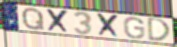3: (73, 11, 95, 36)
D: (147, 17, 172, 42)
G: (123, 16, 146, 40)
Q: (21, 7, 46, 31)
X: (96, 12, 121, 39), (46, 8, 71, 34)
